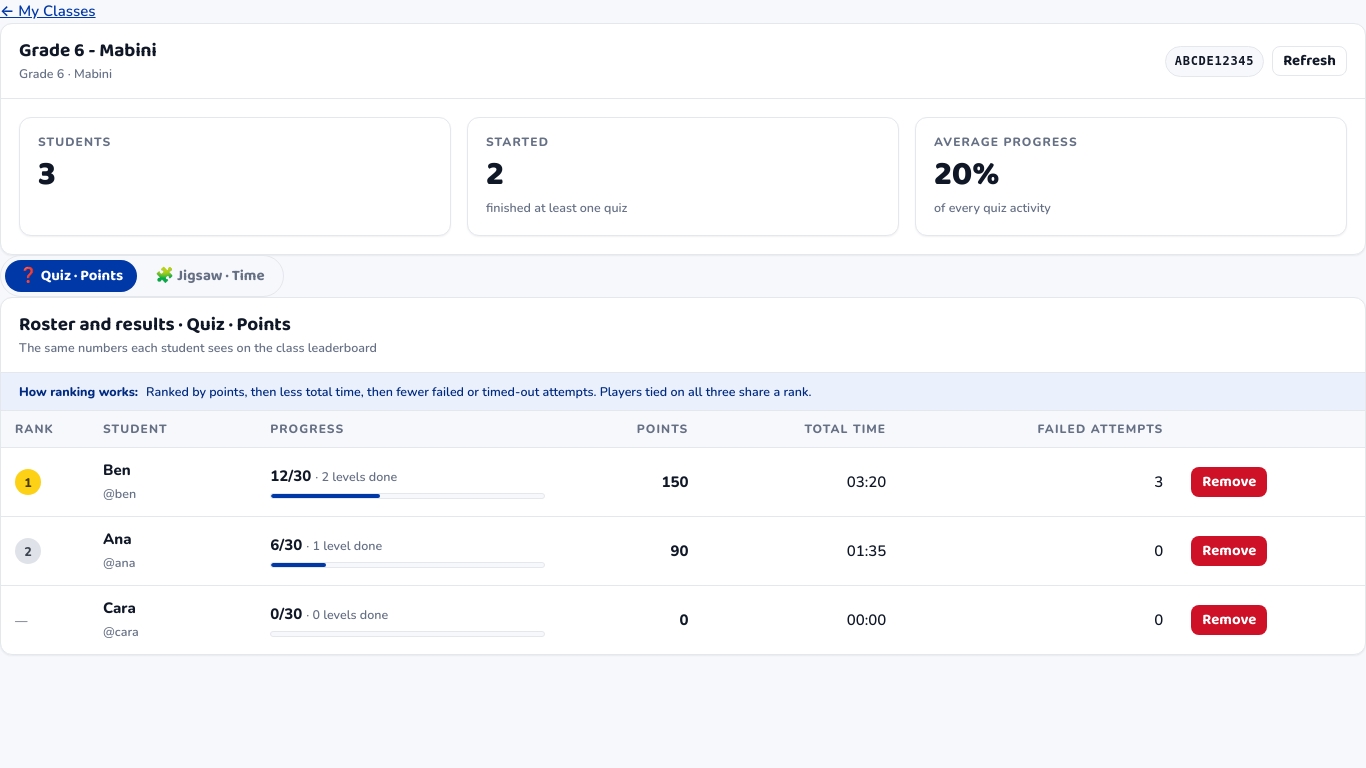
Test: class overview › removes a student after confirming
Expected: the table is shown, [1,411,1365,654]
Click the button "Remove" in the row of "00:00". click: coordinates (1229, 620)
box: [1191,605,1267,635]
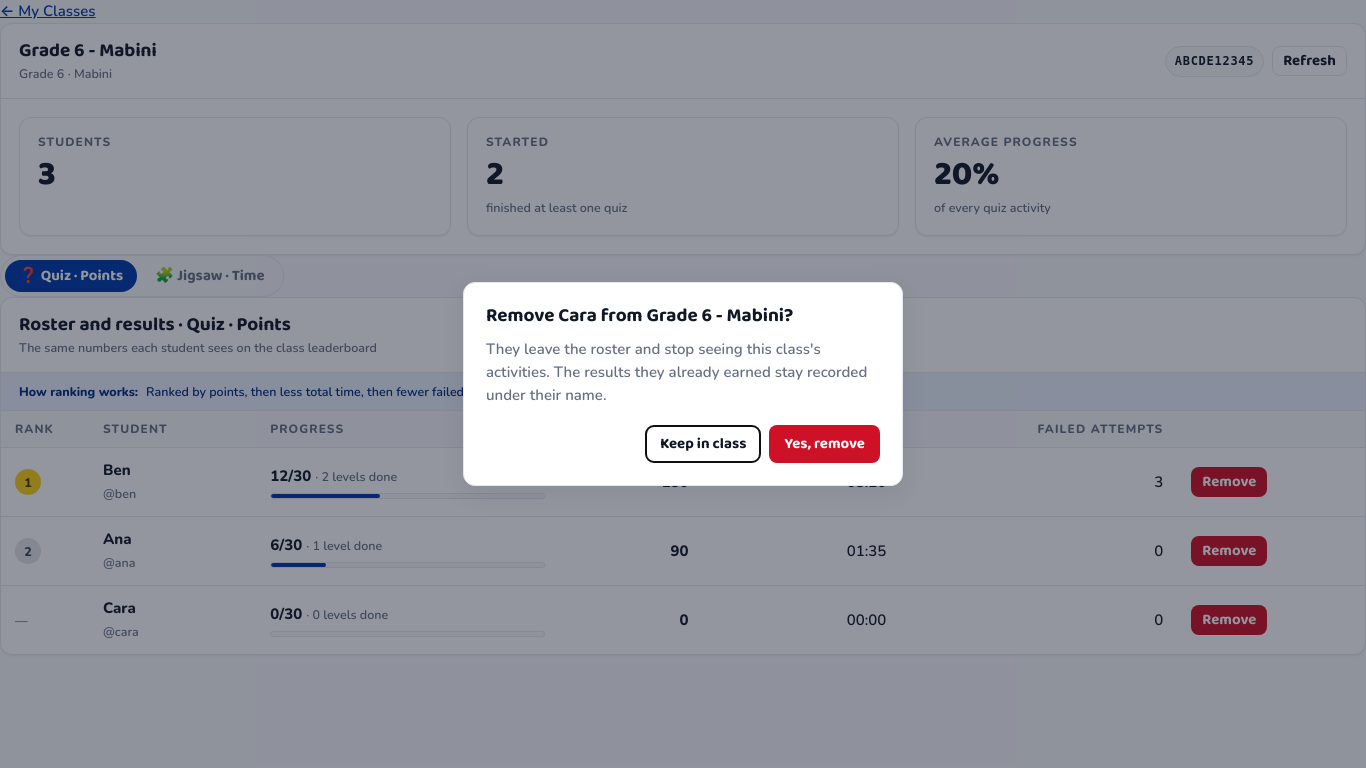
Click the button "Yes, remove". click: coordinates (825, 444)
box: [769,425,880,463]
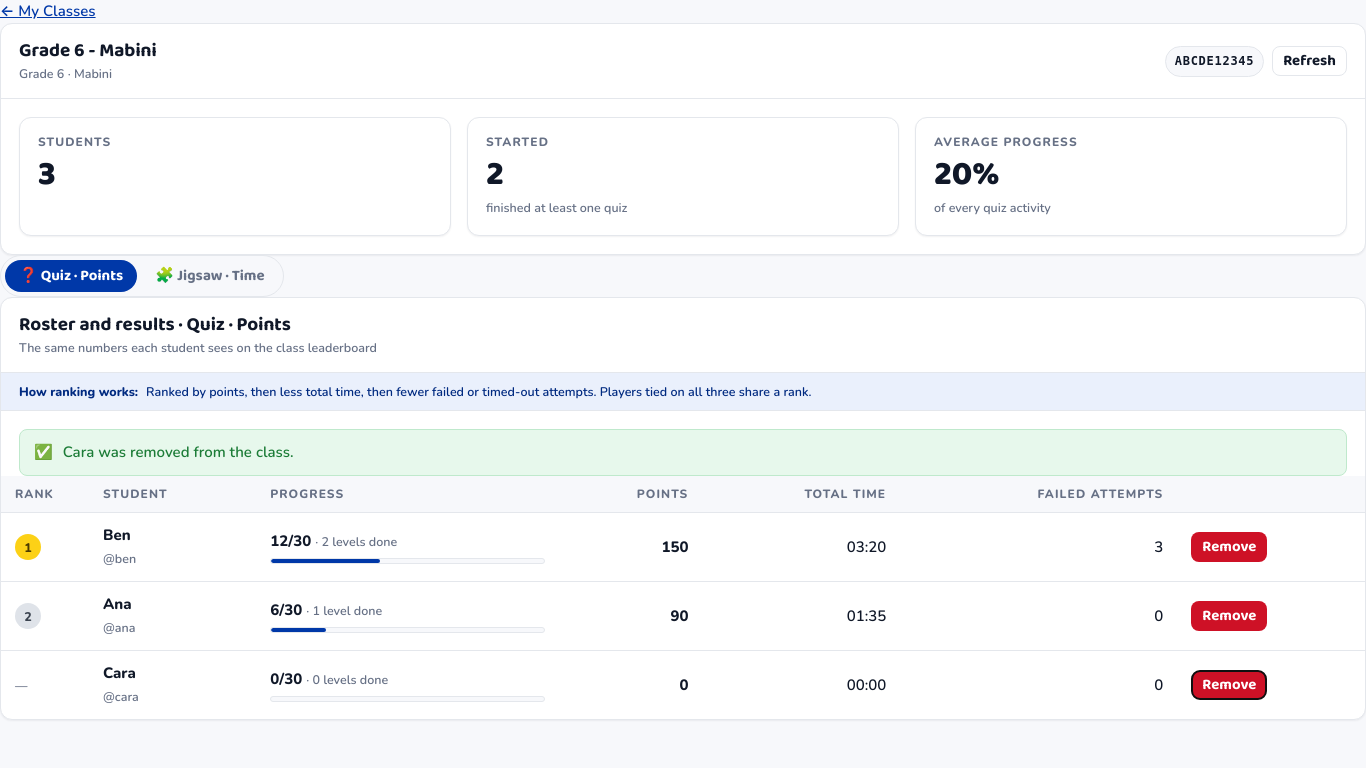
Result: the text "Cara was removed from the class." is shown at [63,441,294,464]
